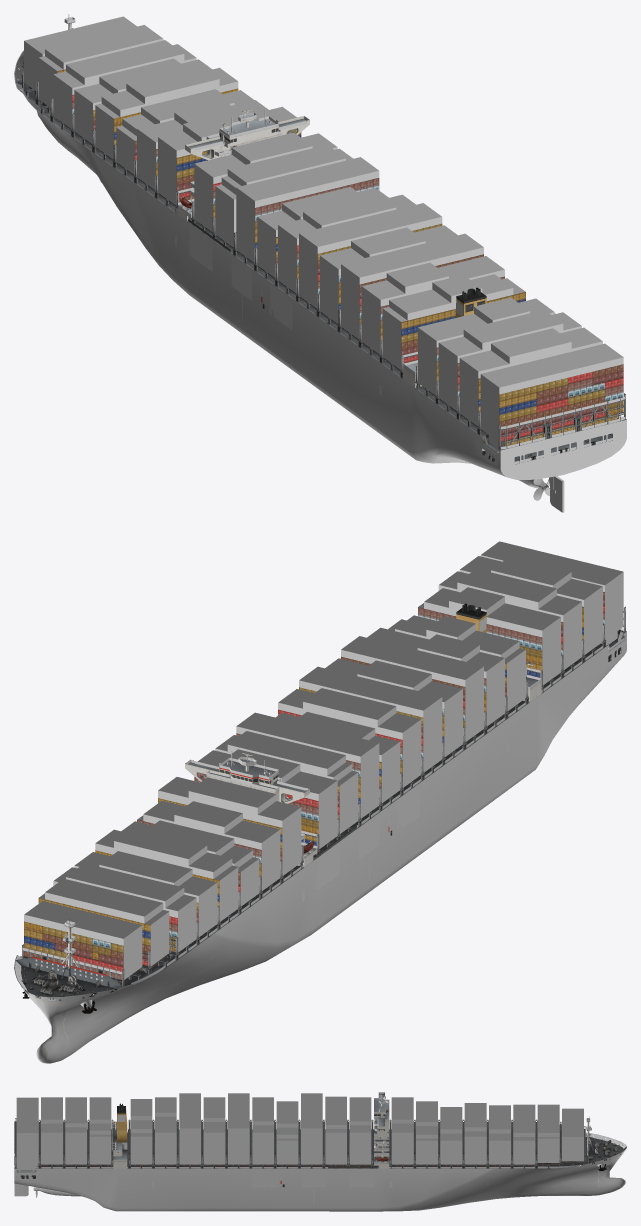
3 views of the same model, one above another, from view 1: azimuth 30°, elevation 25°; view 2: azimuth 150°, elevation 25°; view 3: azimuth 270°, elevation 25° (orthographic). The views are drawn at different scales.
Visible parts, largest first — view 1: SideContainer; view 2: SideContainer; view 3: SideContainer.
Boxes of the visible parts, x1=… form: SideContainer: x1=14, y1=14, x2=626, y2=512; SideContainer: x1=14, y1=541, x2=626, y2=1063; SideContainer: x1=14, y1=1092, x2=626, y2=1211.
Bounding box in the file's own units: 611 × 784 × 4369.
